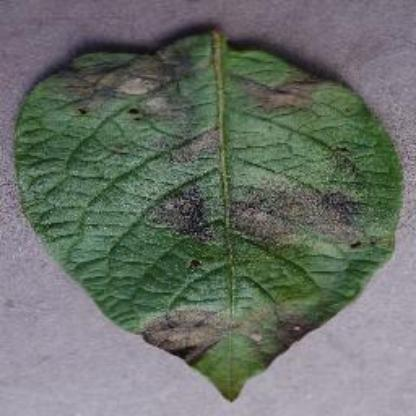Late-Blight: (16, 22, 404, 406)
